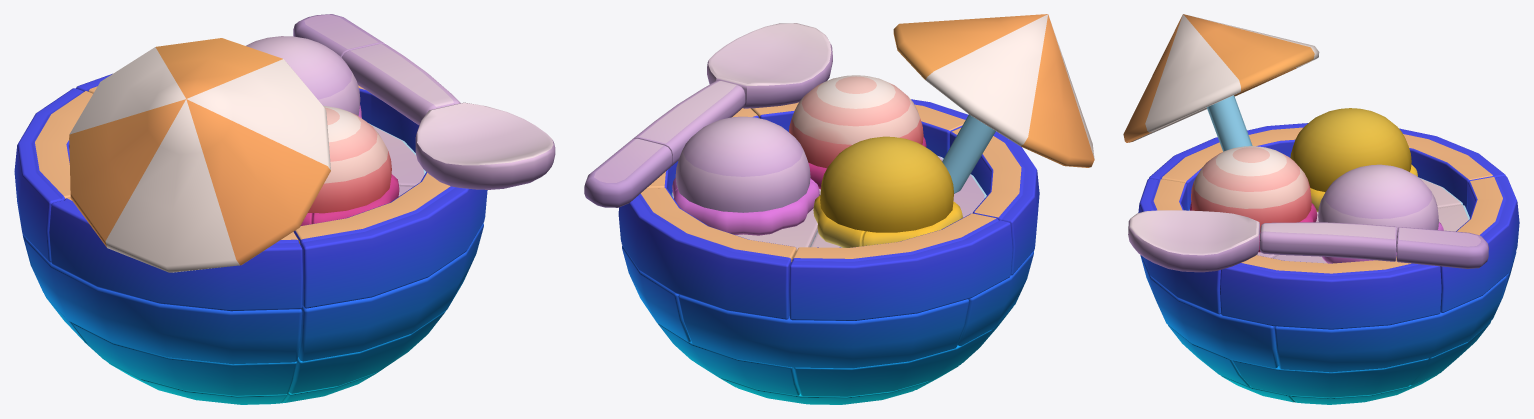
File: lvl_14.fbx
3 views of the same model, side by side, from view 1: azimuth 30°, elevation 25°; view 2: azimuth 150°, elevation 25°; view 3: azimuth 270°, elevation 25° (orthographic). The views are drawn at different scales.
Visible parts, largest first — view 1: LV1_Coconut_1, LV1_Coconut_11, LV2_Coconut_8, LV1_Coconut_10, LV1_Coconut_5, LV2_Coconut_7, LV1_Coconut_9, LV6_Coconut_2, LV1_Coconut_2, LV1_Coconut_6, LV1_Coconut_4, LV6_Coconut_1 (+6 smaller); view 2: LV1_Coconut_1, LV1_Coconut_9, LV1_Coconut_8, LV2_Coconut_9, LV1_Coconut_4, LV1_Coconut_3, LV1_Coconut_2, LV1_Coconut_5, LV1_Coconut_10, LV6_Coconut_3, LV1_Coconut_7, LV1_Coconut_6 (+11 smaller); view 3: LV1_Coconut_12, LV1_Coconut_1, LV2_Coconut_10, LV1_Coconut_2, LV1_Coconut_5, LV1_Coconut_3, LV1_Coconut_4, LV1_Coconut_8, LV2_Coconut_7, LV1_Coconut_6, LV6_Coconut_5, LV1_Coconut_9 (+9 smaller).
Part boxes in pixels (<box>): LV1_Coconut_1: <box>69,38,330,272</box>; LV1_Coconut_11: <box>293,172,486,308</box>; LV2_Coconut_8: <box>25,237,302,364</box>; LV1_Coconut_10: <box>49,197,302,311</box>; LV1_Coconut_5: <box>415,102,555,189</box>; LV2_Coconut_7: <box>298,223,483,361</box>; LV1_Coconut_9: <box>14,88,92,262</box>; LV6_Coconut_2: <box>72,323,296,395</box>; LV1_Coconut_2: <box>308,105,391,213</box>; LV1_Coconut_6: <box>342,43,460,124</box>; LV1_Coconut_4: <box>246,36,360,115</box>; LV6_Coconut_1: <box>289,311,445,393</box>; LV1_Coconut_1: <box>893,14,1094,193</box>; LV1_Coconut_9: <box>789,213,1012,320</box>; LV1_Coconut_8: <box>619,188,796,319</box>; LV2_Coconut_9: <box>678,295,969,368</box>; LV1_Coconut_4: <box>675,116,810,212</box>; LV1_Coconut_3: <box>820,136,953,232</box>; LV1_Coconut_2: <box>789,75,923,168</box>; LV1_Coconut_5: <box>707,23,832,108</box>; LV1_Coconut_10: <box>949,127,1039,275</box>; LV6_Coconut_3: <box>794,329,991,396</box>; LV1_Coconut_7: <box>584,138,672,207</box>; LV1_Coconut_6: <box>633,81,745,165</box>; LV1_Coconut_12: <box>1220,255,1441,329</box>; LV1_Coconut_1: <box>1123,14,1319,151</box>; LV2_Coconut_10: <box>1274,275,1506,372</box>; LV1_Coconut_2: <box>1191,146,1311,231</box>; LV1_Coconut_5: <box>1128,210,1259,272</box>; LV1_Coconut_3: <box>1290,108,1411,192</box>; LV1_Coconut_4: <box>1318,164,1438,248</box>; LV1_Coconut_8: <box>1440,176,1519,312</box>; LV2_Coconut_7: <box>1140,255,1278,368</box>; LV1_Coconut_6: <box>1259,222,1397,261</box>; LV6_Coconut_5: <box>1232,358,1428,397</box>; LV1_Coconut_9: <box>1399,128,1505,210</box>.
Bounding box in the file's own units: 12.6 × 10.56 × 12.4.
